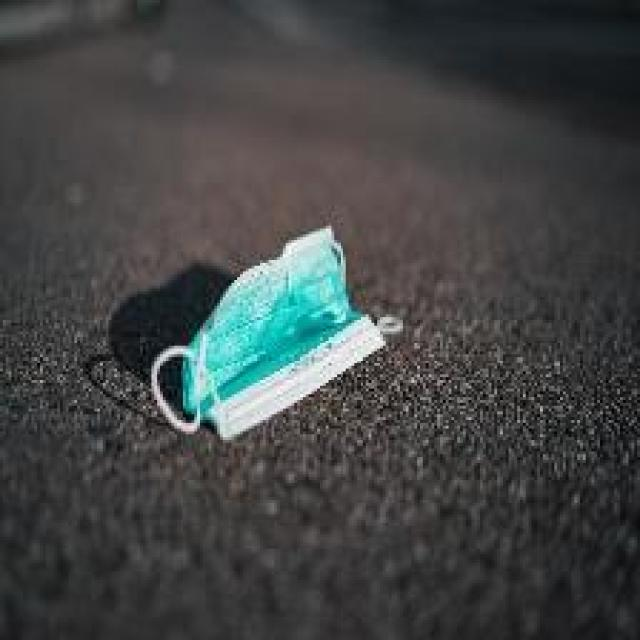Mask: (124, 218, 418, 454)
